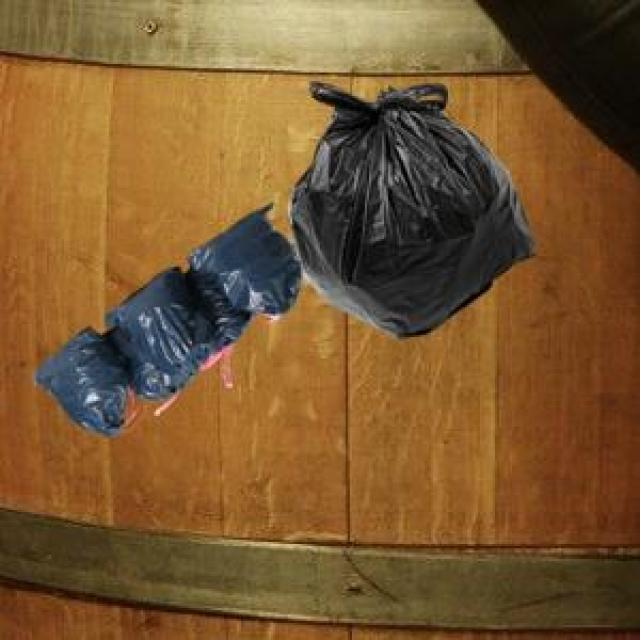waste: (36, 82, 531, 436)
